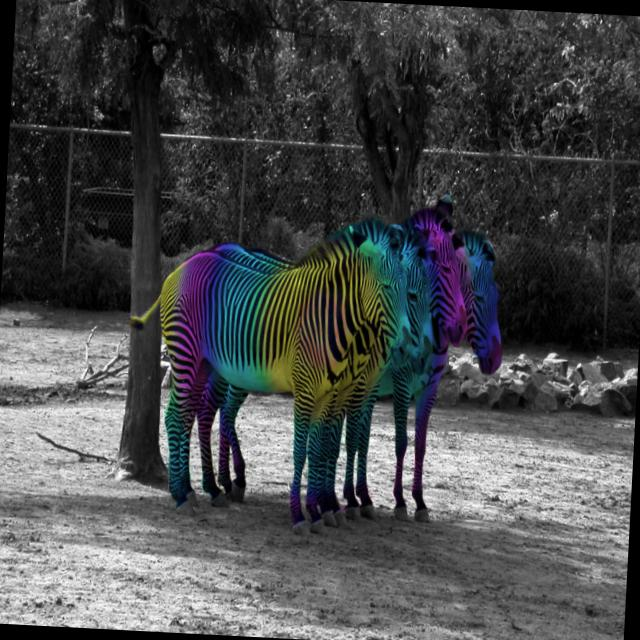zebra: (111, 203, 410, 542), (281, 159, 441, 594), (419, 99, 518, 548)
